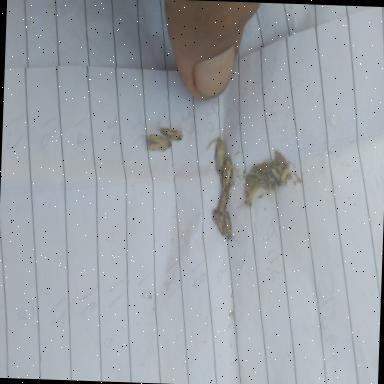pbw: (140, 130, 178, 152), (222, 209, 242, 243), (220, 156, 242, 186), (154, 122, 184, 140), (216, 185, 232, 217), (212, 208, 228, 237), (214, 139, 226, 174)
